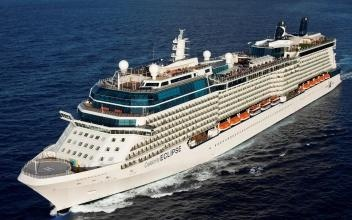youlun: (16, 17, 338, 206)
